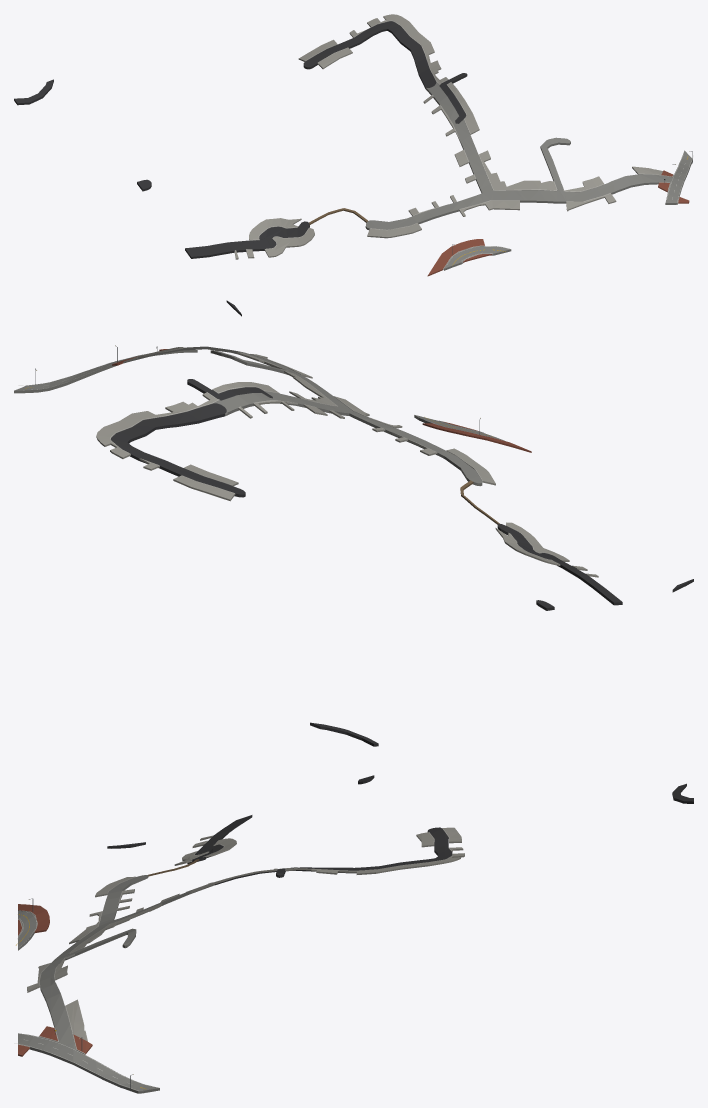
3 renders of one model, top to bottom at view 1: azimuth 30°, elevation 25°; view 2: azimuth 150°, elevation 25°; view 3: azimuth 270°, elevation 25°, orthographic. The views are drawn at different scales.
Size of the model in its own units: 296 by 79.94 by 293.
